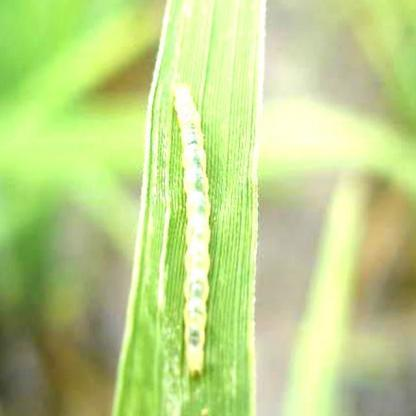leaf-folder: (152, 56, 230, 395)
